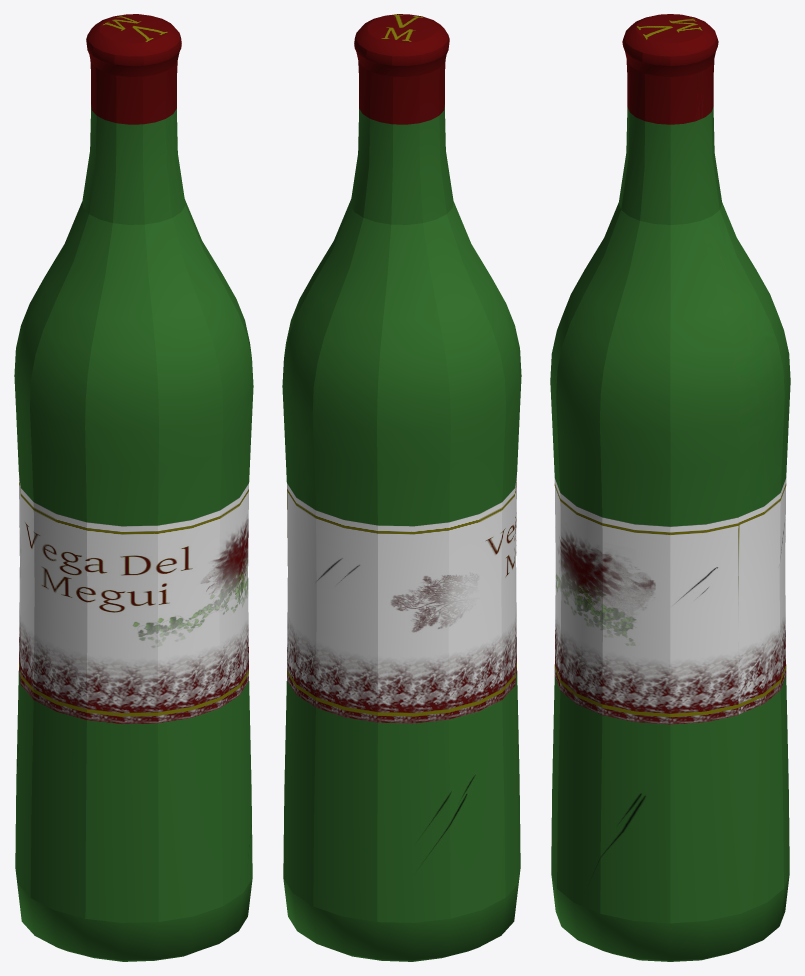
Rendered from WineBottle.fbx.
The picture shows the model from 3 angles, left to right: view 1: azimuth 30°, elevation 25°; view 2: azimuth 150°, elevation 25°; view 3: azimuth 270°, elevation 25°; orthographic projection.
Visible parts, largest first — view 1: pCylinder1; view 2: pCylinder1; view 3: pCylinder1.
Boxes of the visible parts, x1=… form: pCylinder1: x1=14, y1=14, x2=253, y2=961; pCylinder1: x1=282, y1=14, x2=521, y2=961; pCylinder1: x1=550, y1=14, x2=790, y2=961.
Bounding box in the file's own units: 7.27 × 29.88 × 7.27.
